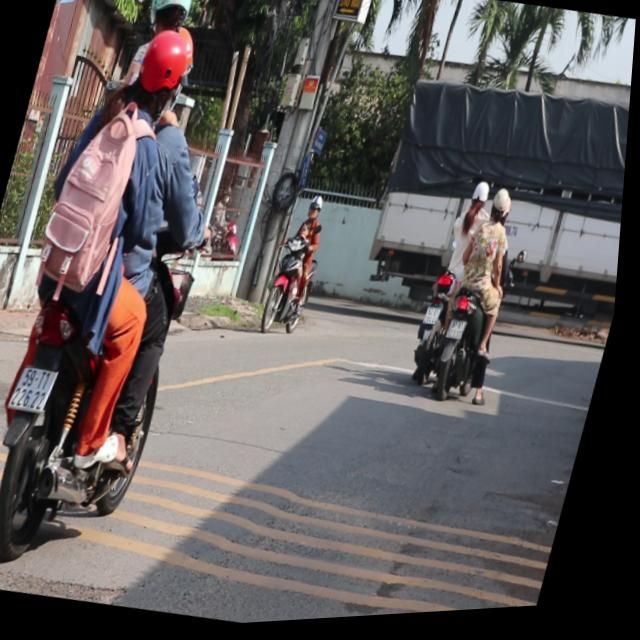helmet: (120, 21, 201, 127), (138, 0, 204, 45), (489, 189, 517, 229), (470, 182, 495, 216)
licenseplate: (0, 0, 275, 578), (427, 182, 540, 411), (409, 181, 495, 392), (259, 189, 339, 342)
nohelmet: (14, 363, 63, 413), (450, 323, 470, 345), (427, 309, 445, 330)
